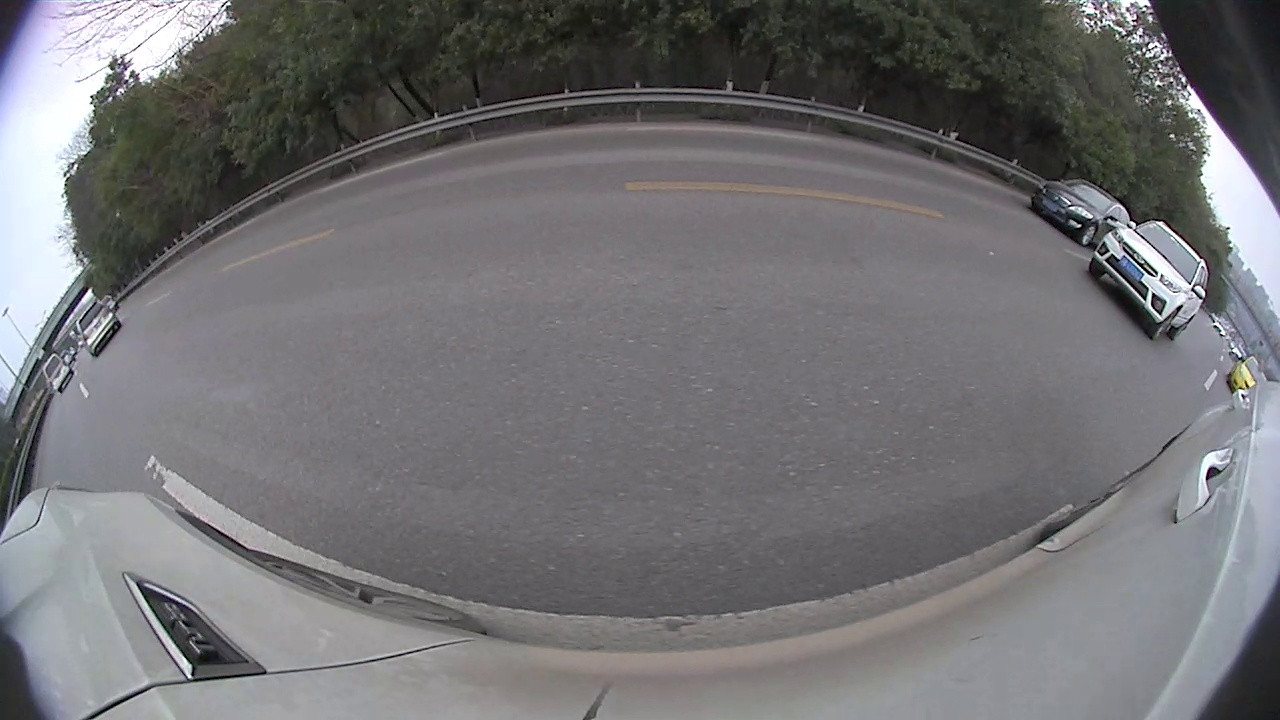car: (582, 102, 831, 265), (1029, 221, 1162, 321), (453, 152, 563, 220), (943, 188, 1033, 251), (861, 169, 951, 228), (824, 141, 875, 223), (560, 157, 591, 191)
rear: (1107, 281, 1134, 310), (969, 215, 990, 240), (875, 193, 894, 219), (530, 183, 543, 213)
